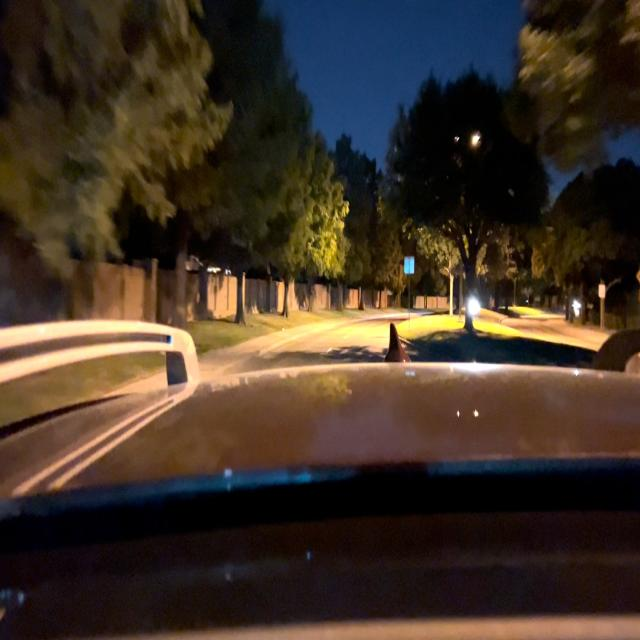back-of-sign: (406, 258, 413, 274)
